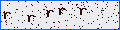r: (2, 11, 11, 20), (27, 15, 36, 22), (46, 10, 54, 17), (58, 8, 66, 15), (79, 8, 87, 15)
